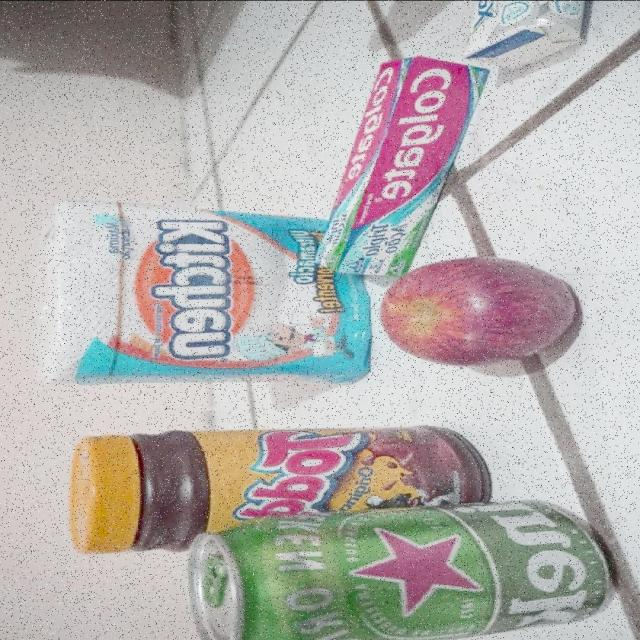Apple: (380, 255, 576, 368)
BeerCan: (185, 498, 611, 640)
ChocolatePowder: (65, 423, 490, 554)
Napkin: (30, 197, 377, 387)
Soap: (466, 0, 591, 71)
Toothpaste: (314, 55, 496, 273)
